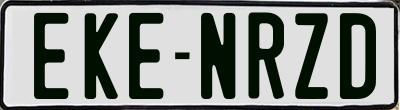D: (339, 11, 375, 102)
E: (129, 11, 168, 99), (34, 10, 73, 96)
K: (82, 10, 119, 99)
N: (200, 10, 236, 101)
R: (245, 10, 284, 97)
Z: (293, 10, 326, 97)
